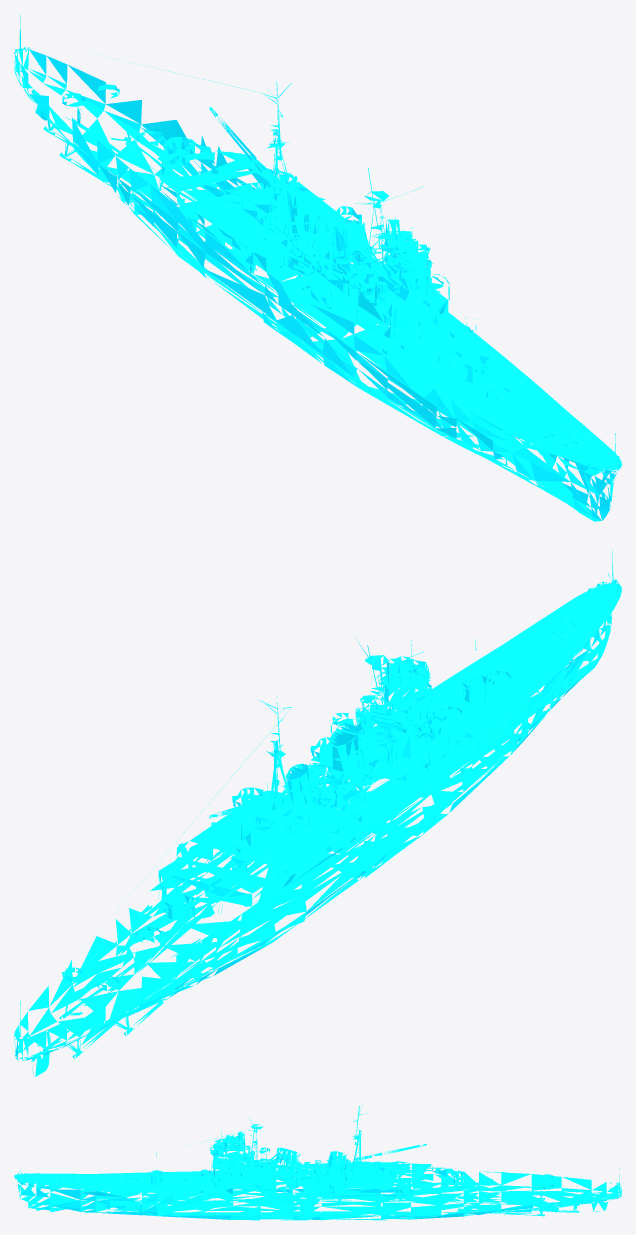
Rendered from Ashigara.glb.
3 renders of one model, top to bottom at view 1: azimuth 30°, elevation 25°; view 2: azimuth 150°, elevation 25°; view 3: azimuth 270°, elevation 25°, orthographic. The views are drawn at different scales.
Size of the model in its own units: 1.57 by 2.62 by 13.54.
